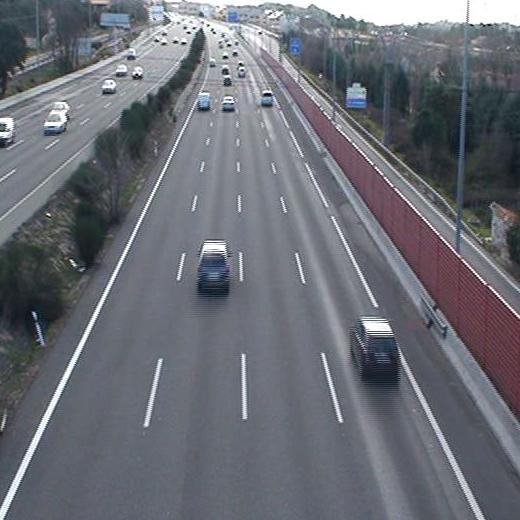car: (348, 316, 399, 379), (197, 240, 229, 294), (221, 93, 238, 112), (260, 89, 274, 106), (222, 74, 233, 87), (237, 67, 246, 77)
van: (197, 89, 212, 112)
